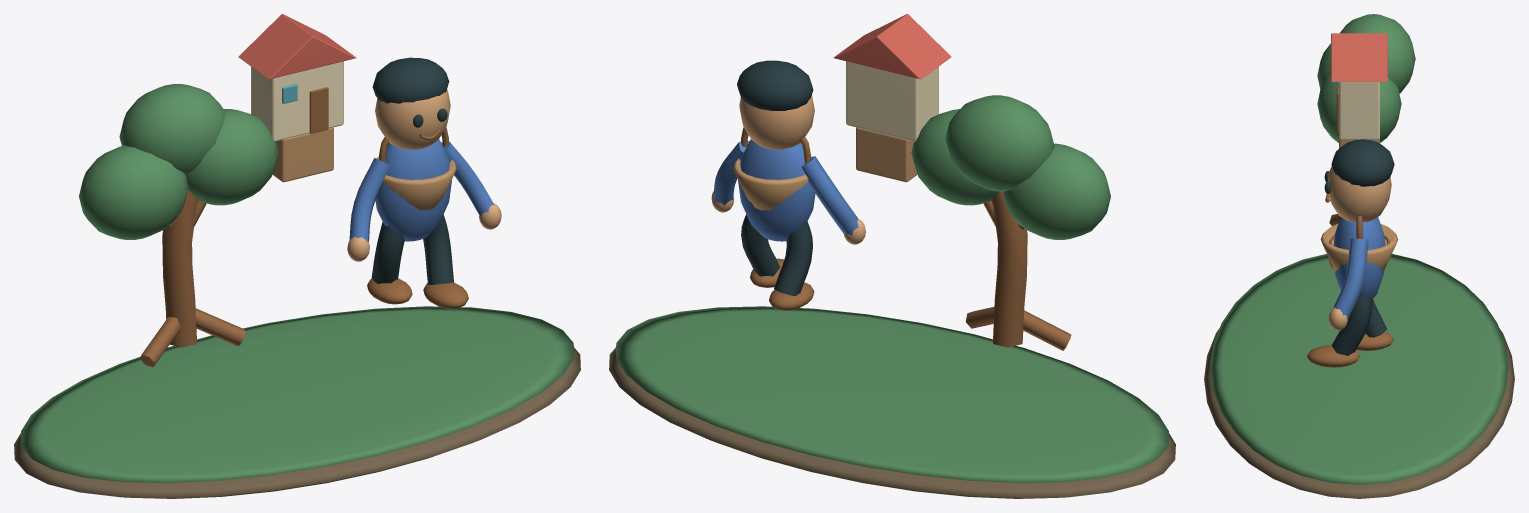
File: complete-first-tree-basket-building.glb
3 renders of one model, left to right at view 1: azimuth 30°, elevation 25°; view 2: azimuth 150°, elevation 25°; view 3: azimuth 270°, elevation 25°, orthographic. The views are drawn at different scales.
Visible parts, largest first — view 1: complete-first-tree-basket-building_surface_01, complete-first-tree-basket-building_surface_00, complete-first-tree-basket-building_surface_02, complete-first-tree-basket-building_surface_05, complete-first-tree-basket-building_surface_04, complete-first-tree-basket-building_surface_07, complete-first-tree-basket-building_surface_08, complete-first-tree-basket-building_surface_06, complete-first-tree-basket-building_surface_03; view 2: complete-first-tree-basket-building_surface_01, complete-first-tree-basket-building_surface_00, complete-first-tree-basket-building_surface_02, complete-first-tree-basket-building_surface_05, complete-first-tree-basket-building_surface_04, complete-first-tree-basket-building_surface_07, complete-first-tree-basket-building_surface_06, complete-first-tree-basket-building_surface_08, complete-first-tree-basket-building_surface_03; view 3: complete-first-tree-basket-building_surface_01, complete-first-tree-basket-building_surface_00, complete-first-tree-basket-building_surface_04, complete-first-tree-basket-building_surface_05, complete-first-tree-basket-building_surface_08, complete-first-tree-basket-building_surface_03, complete-first-tree-basket-building_surface_07, complete-first-tree-basket-building_surface_02, complete-first-tree-basket-building_surface_06.
Part boxes in pixels (<box>): complete-first-tree-basket-building_surface_01: <box>21,84,573,483</box>; complete-first-tree-basket-building_surface_00: <box>14,347,580,498</box>; complete-first-tree-basket-building_surface_02: <box>140,87,468,367</box>; complete-first-tree-basket-building_surface_05: <box>349,139,494,241</box>; complete-first-tree-basket-building_surface_04: <box>371,57,453,284</box>; complete-first-tree-basket-building_surface_07: <box>251,61,343,141</box>; complete-first-tree-basket-building_surface_08: <box>238,14,356,79</box>; complete-first-tree-basket-building_surface_06: <box>272,127,456,210</box>; complete-first-tree-basket-building_surface_03: <box>347,89,501,261</box>; complete-first-tree-basket-building_surface_01: <box>616,95,1168,483</box>; complete-first-tree-basket-building_surface_00: <box>609,347,1175,498</box>; complete-first-tree-basket-building_surface_02: <box>741,127,1071,350</box>; complete-first-tree-basket-building_surface_05: <box>713,139,858,241</box>; complete-first-tree-basket-building_surface_04: <box>737,60,813,295</box>; complete-first-tree-basket-building_surface_07: <box>846,61,938,141</box>; complete-first-tree-basket-building_surface_06: <box>733,127,917,210</box>; complete-first-tree-basket-building_surface_08: <box>833,14,951,79</box>; complete-first-tree-basket-building_surface_03: <box>711,95,865,244</box>; complete-first-tree-basket-building_surface_01: <box>1210,14,1508,484</box>; complete-first-tree-basket-building_surface_00: <box>1204,328,1514,498</box>; complete-first-tree-basket-building_surface_04: <box>1324,139,1394,355</box>; complete-first-tree-basket-building_surface_05: <box>1333,217,1385,319</box>; complete-first-tree-basket-building_surface_08: <box>1331,33,1387,81</box>; complete-first-tree-basket-building_surface_03: <box>1328,166,1391,330</box>; complete-first-tree-basket-building_surface_07: <box>1339,82,1379,139</box>; complete-first-tree-basket-building_surface_02: <box>1307,86,1393,367</box>; complete-first-tree-basket-building_surface_06: <box>1320,138,1398,271</box>.
Size of the model in its own units: 4.56 by 3.2 by 2.5.
